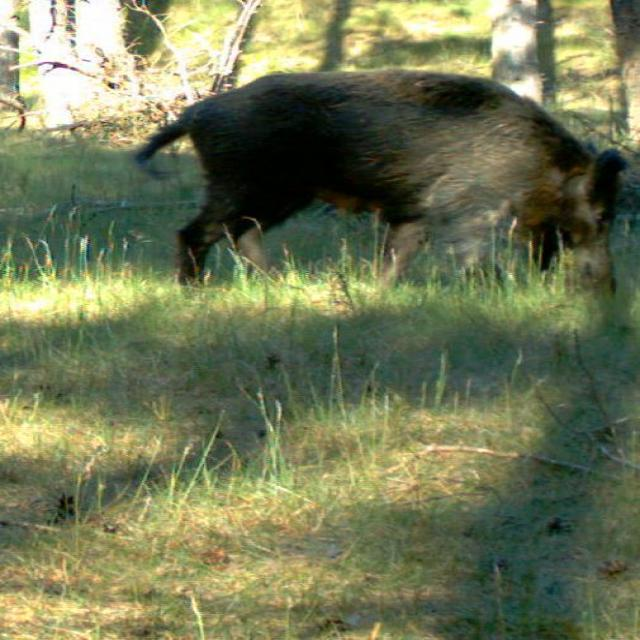pig: (136, 65, 640, 321)
